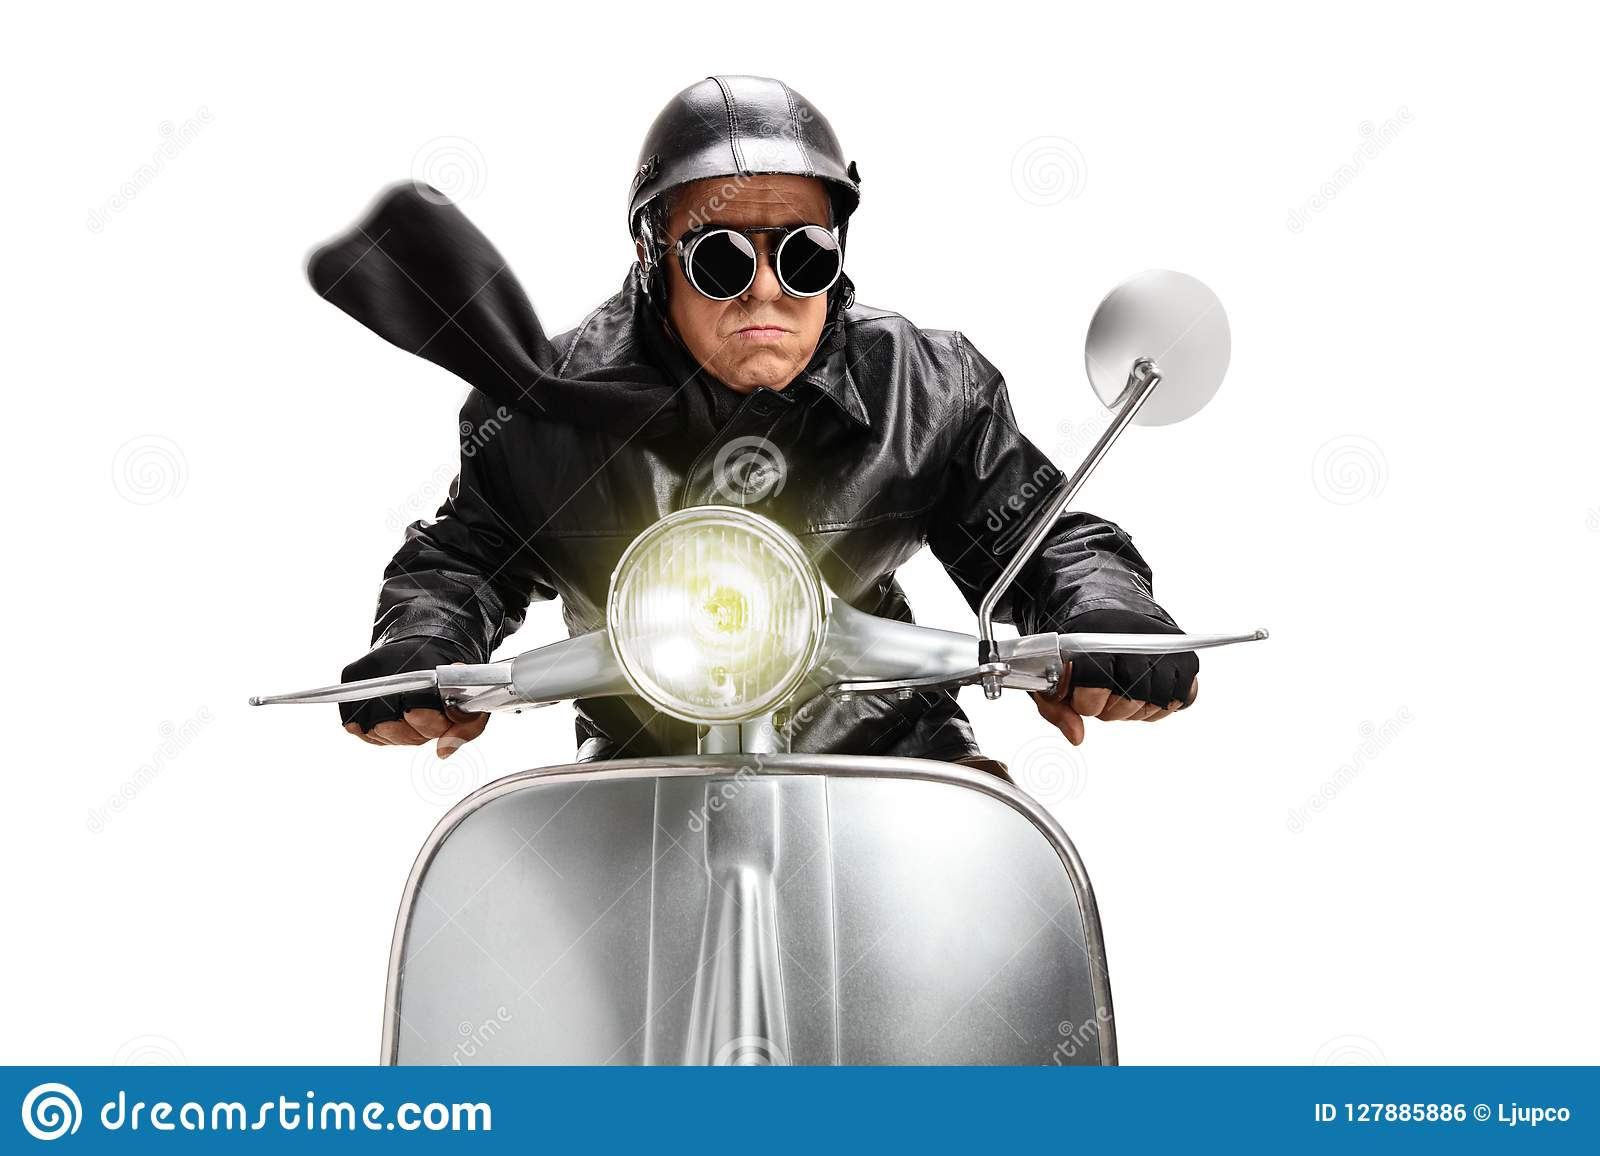helmet: (612, 70, 873, 214)
